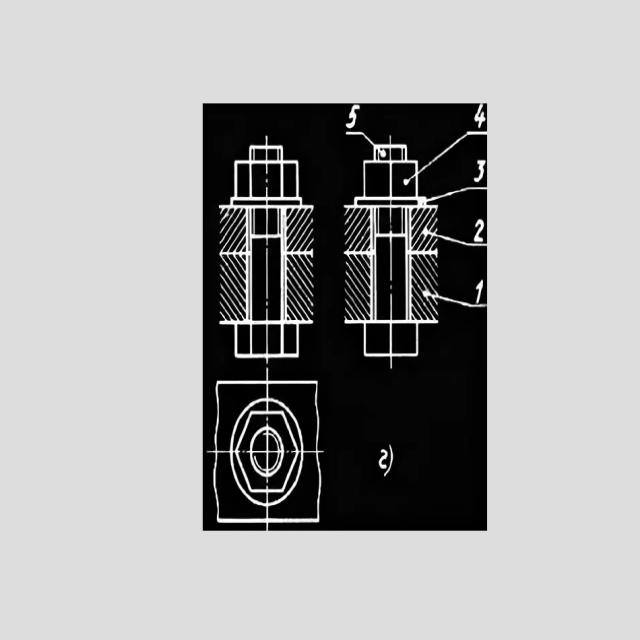numeric: (474, 103, 487, 130), (346, 105, 361, 128), (473, 219, 484, 243), (475, 157, 485, 182), (477, 278, 484, 305), (344, 110, 352, 131)
